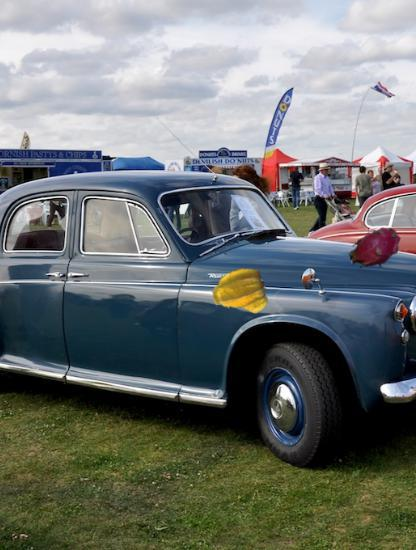Physalis: (212, 267, 266, 321)
Pitahaya: (349, 223, 404, 278)
